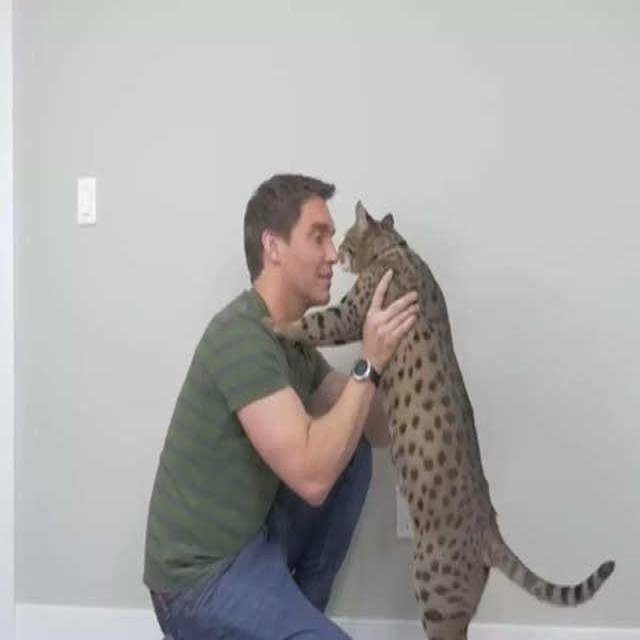Cat: (336, 197, 404, 271)
